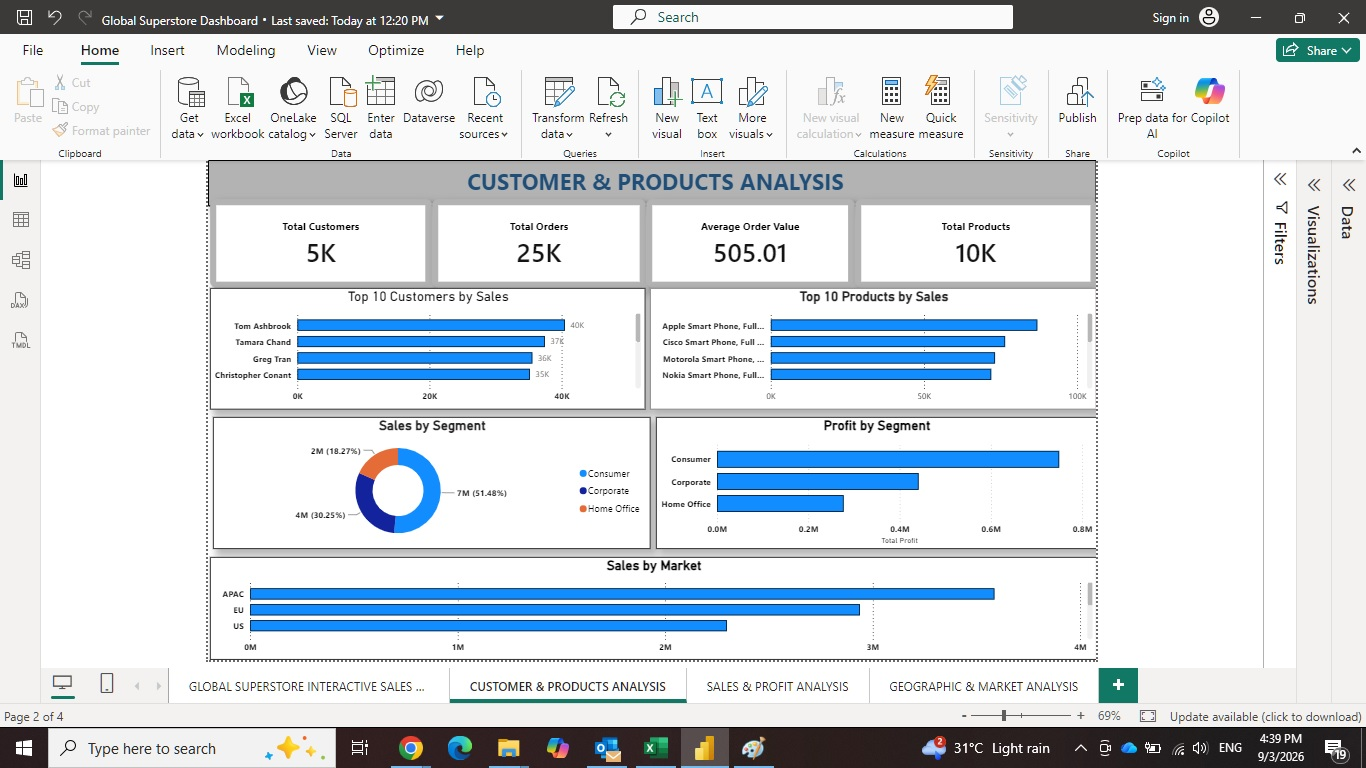

Layout of this report page (visuals, bound fields, positions):
{"tool":"powerbi","page":{"name":" CUSTOMER & PRODUCTS ANALYSIS","canvas":[1280,720],"ordinal":1},"visuals":[{"type":"textbox","box":[10.1,0,1270.1,85],"z":0},{"type":"textbox","box":[0,0,1280,66.7],"z":1000},{"type":"cardVisual","fields":{"Data":["Measures 1.Total Customers"]},"box":[2.9,56.2,319.7,128.2],"z":2000},{"type":"cardVisual","fields":{"Data":["Measures 1.Total Orders"]},"box":[322.6,56.2,308.2,128.2],"z":3000},{"type":"cardVisual","fields":{"Data":["Measures 1.Average Order Value"]},"box":[630.7,56.2,301,128.2],"z":4000},{"type":"cardVisual","fields":{"Data":["Measures 1.Total Products"]},"box":[931.7,56.2,348.5,128.2],"z":5000},{"type":"clusteredBarChart","title":"Top 10 Customers by Sales","fields":{"Y":["Measures 1.Total Sales"],"Category":["Global Superstore_Clean.Customer Name"]},"box":[3.4,184.8,626.6,174.7],"z":6000},{"type":"clusteredBarChart","title":"Top 10 Products by Sales","fields":{"Category":["Global Superstore_Clean.Product Name"],"Y":["Measures 1.Total Sales"]},"box":[636.6,184.8,643.4,174.7],"z":7000},{"type":"donutChart","title":"Sales by Segment","fields":{"Category":["Global Superstore_Clean.Segment"],"Y":["Measures 1.Total Sales"]},"box":[6.7,369.6,629.9,189.8],"z":8000},{"type":"clusteredBarChart","title":"Profit by Segment","fields":{"Category":["Global Superstore_Clean.Segment"],"Y":["Measures 1.Total Profit"]},"box":[645,369.6,635,189.8],"z":9000},{"type":"clusteredBarChart","title":"Sales by Market","fields":{"Category":["Global Superstore_Clean.Market"],"Y":["Measures 1.Total Sales"]},"box":[2.9,571.7,1277.3,148.3],"z":10000}]}

Visuals, with their boxes on the page's 1280x720 design canvas (x1, y1, x2, y2). These are canvas units, not pixel positions in the 1366x768 screenshot, which may show the page scaled, cropped or inside an application window:
textbox: box=[10, 0, 1280, 85]
textbox: box=[0, 0, 1280, 67]
cardVisual - Measures 1.Total Customers: box=[3, 56, 323, 184]
cardVisual - Measures 1.Total Orders: box=[323, 56, 631, 184]
cardVisual - Measures 1.Average Order Value: box=[631, 56, 932, 184]
cardVisual - Measures 1.Total Products: box=[932, 56, 1280, 184]
"Top 10 Customers by Sales" clusteredBarChart: box=[3, 185, 630, 360]
"Top 10 Products by Sales" clusteredBarChart: box=[637, 185, 1280, 360]
"Sales by Segment" donutChart: box=[7, 370, 637, 559]
"Profit by Segment" clusteredBarChart: box=[645, 370, 1280, 559]
"Sales by Market" clusteredBarChart: box=[3, 572, 1280, 720]
